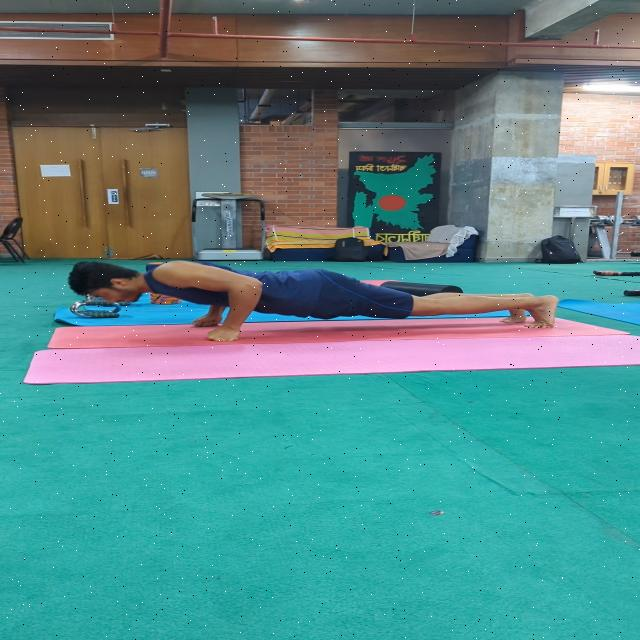Normal_PushUps: (56, 255, 584, 363)
